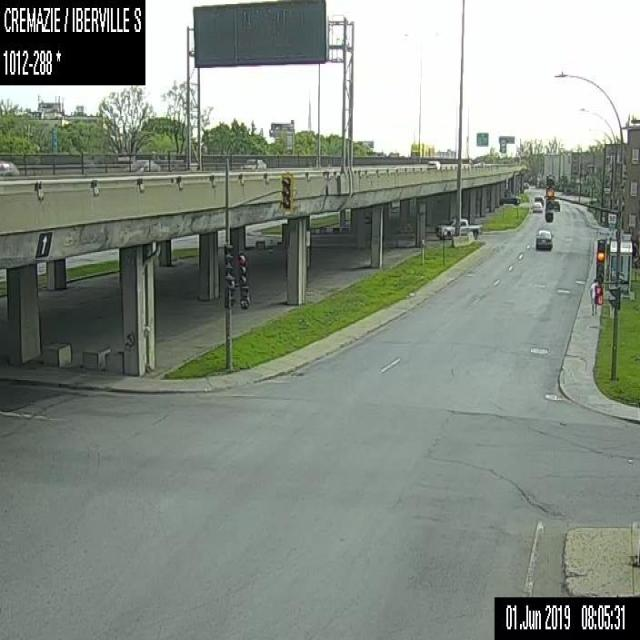pedestrian: (589, 276, 598, 316)
vehicle: (434, 215, 480, 240), (122, 157, 160, 171), (238, 156, 266, 169), (0, 157, 20, 175), (535, 228, 552, 249), (500, 191, 520, 204), (426, 159, 440, 168), (532, 201, 542, 212), (533, 194, 543, 205), (553, 200, 559, 211)
